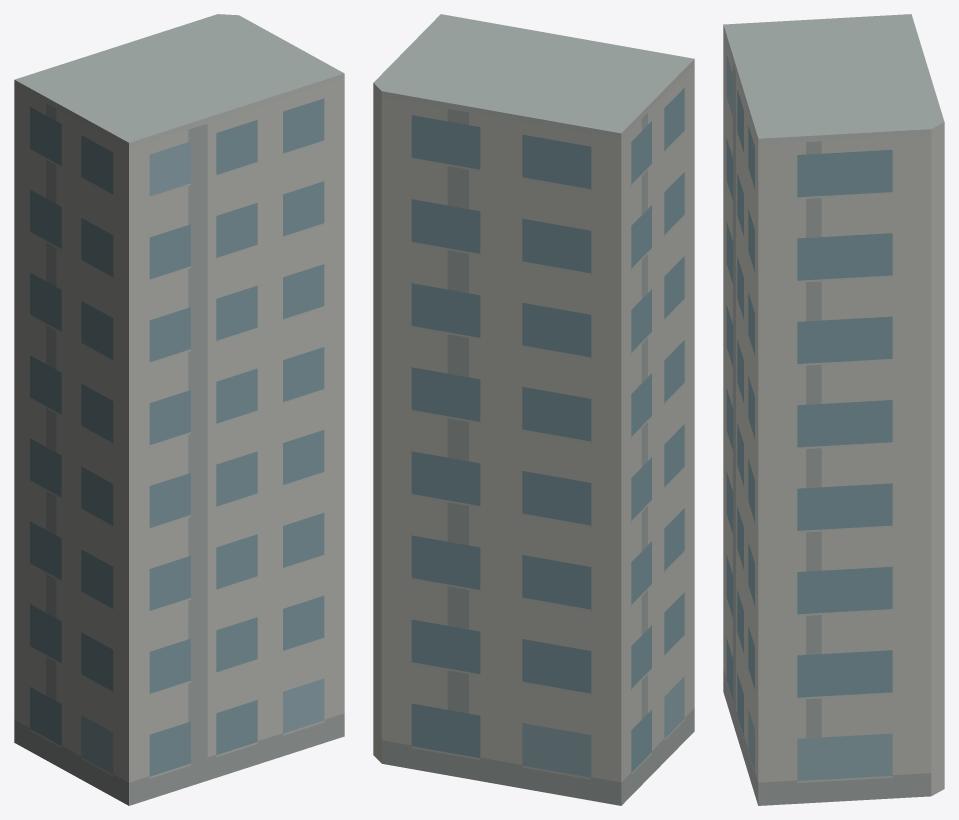
Rendered from survey-upis-32699700.glb.
3 renders of one model, left to right at view 1: azimuth 30°, elevation 25°; view 2: azimuth 150°, elevation 25°; view 3: azimuth 270°, elevation 25°, orthographic.
Visible parts, largest first — view 1: survey-upis-32699700.tmp; view 2: survey-upis-32699700.tmp; view 3: survey-upis-32699700.tmp.
Boxes of the visible parts, x1=… form: survey-upis-32699700.tmp: x1=14, y1=14, x2=344, y2=805; survey-upis-32699700.tmp: x1=373, y1=14, x2=694, y2=805; survey-upis-32699700.tmp: x1=723, y1=14, x2=944, y2=805.
Bounding box in the file's own units: 10.76 × 26.8 × 8.06.
